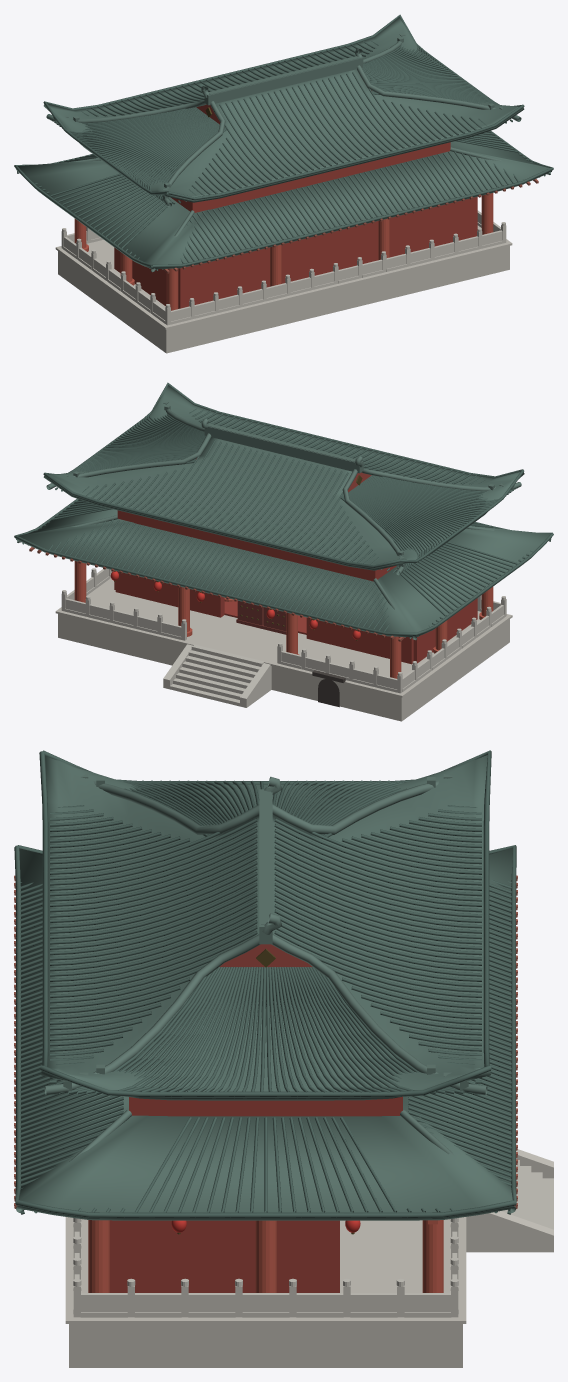
File: yuan-02-beiyuemiao-deningdian.glb
3 renders of one model, top to bottom at view 1: azimuth 30°, elevation 25°; view 2: azimuth 150°, elevation 25°; view 3: azimuth 270°, elevation 25°, orthographic. The views are drawn at different scales.
Visible parts, largest first — view 1: 上层屋面, 下层屋面, 上层瓦垄, 台基主体, 殿身墙体, 台基栏杆, 下层瓦垄, 下层山面瓦垄, 上层檐口, 上层墙身, 立柱与梁架, 上层垂脊 (+4 smaller); view 2: 上层屋面, 下层屋面, 上层瓦垄, 台基主体, 下层瓦垄, 台基栏杆, 殿身墙体, 踏道与垂带, 下层山面瓦垄, 上层檐口, 立柱与梁架, 上层墙身 (+7 smaller); view 3: 上层瓦垄, 上层屋面, 下层屋面, 台基主体, 下层瓦垄, 殿身墙体, 台基栏杆, 上层垂脊, 上层檐口, 下层山面瓦垄, 下层檐口, 踏道与垂带 (+6 smaller).
Part boxes in pixels (x1,y1,x2,y2): 上层屋面: (43,17,524,202); 下层屋面: (16,132,551,269); 上层瓦垄: (50,41,518,205); 台基主体: (55,225,512,353); 殿身墙体: (114,196,477,308); 台基栏杆: (61,210,506,325); 下层瓦垄: (17,151,550,272); 下层山面瓦垄: (35,131,532,268); 上层檐口: (43,14,524,200); 上层墙身: (171,142,450,212); 立柱与梁架: (74,193,493,310); 上层垂脊: (46,41,521,207); 上层屋面: (43,385,524,570); 下层屋面: (16,500,551,637); 上层瓦垄: (49,408,517,573); 台基主体: (55,578,512,721); 下层瓦垄: (17,519,550,640); 台基栏杆: (61,568,506,693); 殿身墙体: (114,571,477,664); 踏道与垂带: (163,644,271,707); 下层山面瓦垄: (35,499,533,636); 上层檐口: (43,382,524,568); 立柱与梁架: (74,561,493,678); 上层墙身: (117,510,396,581); 上层瓦垄: (50,780,482,1094); 上层屋面: (41,755,490,1100); 下层屋面: (17,848,514,1220); 台基主体: (65,1217,466,1367); 下层瓦垄: (20,880,511,1214); 殿身墙体: (109,1220,339,1292); 台基栏杆: (73,1218,458,1317); 上层垂脊: (44,781,487,1094); 上层檐口: (39,750,491,1097); 下层山面瓦垄: (34,1117,497,1213); 下层檐口: (14,845,516,1218); 踏道与垂带: (466,1149,553,1252).
Bounding box in the file's own units: 10 × 4.83 × 6.39.
